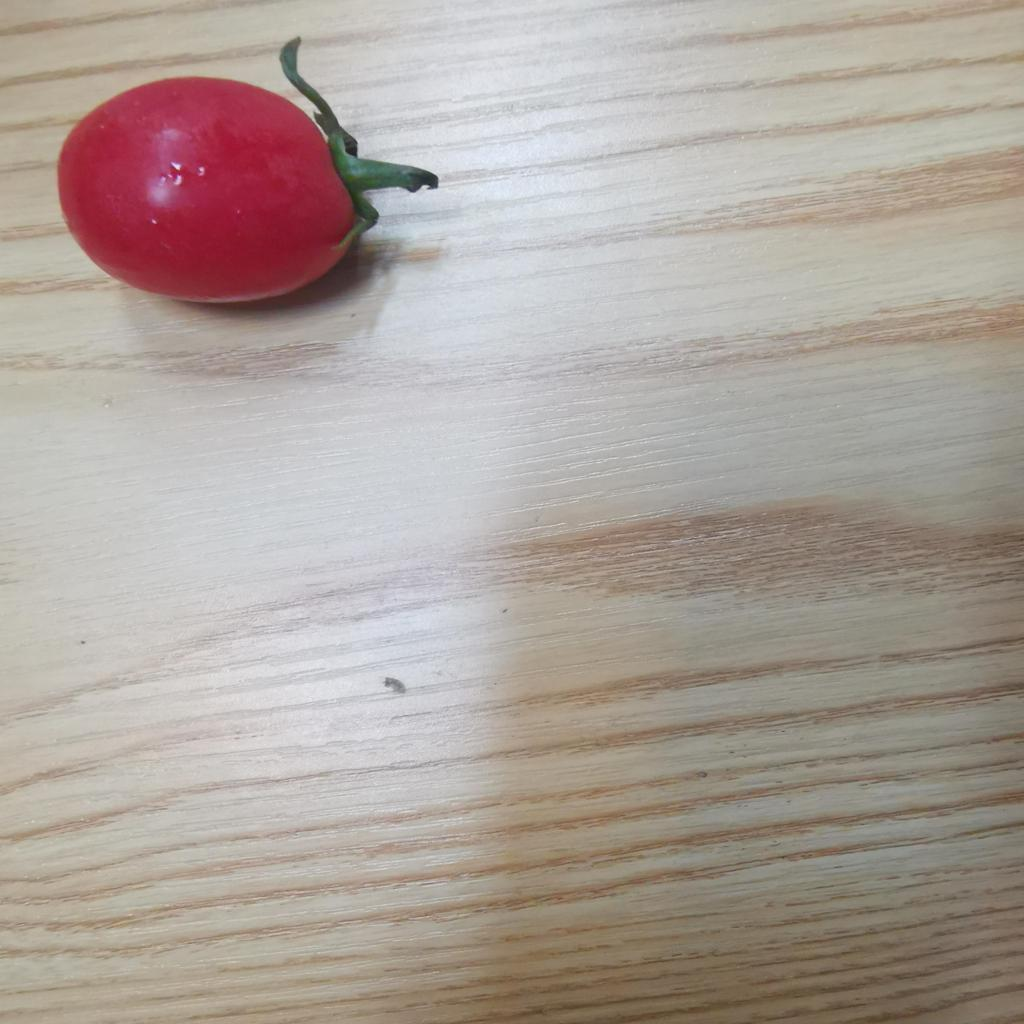tomato: (63, 87, 382, 303)
